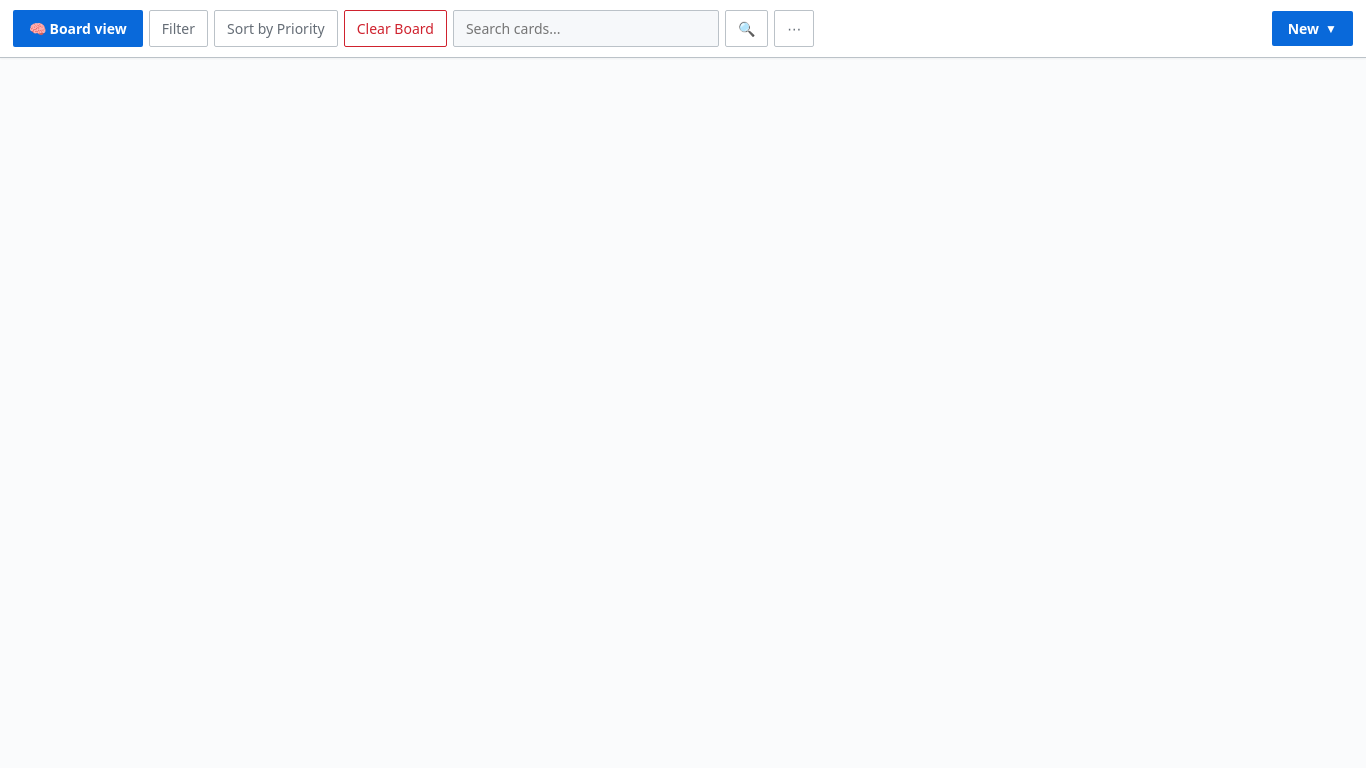
KanbanToolbar › New Card Modal Functionality › should close modal when clicking backdrop
// Open New Card modal
Click the button "New ▼".
click(1312, 28)  # box [1272, 11, 1353, 46]
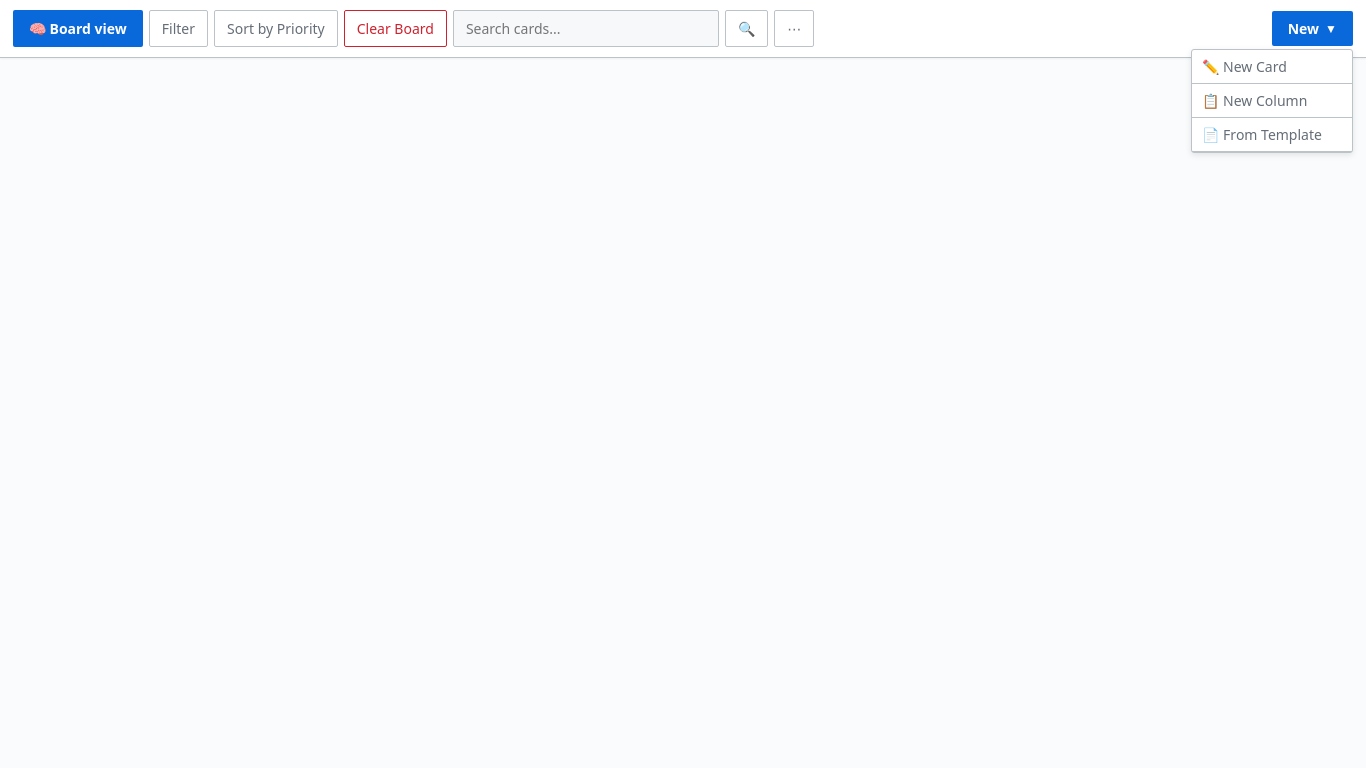
Click the text "✏️ New Card".
click(1272, 67)  # box [1192, 50, 1352, 84]
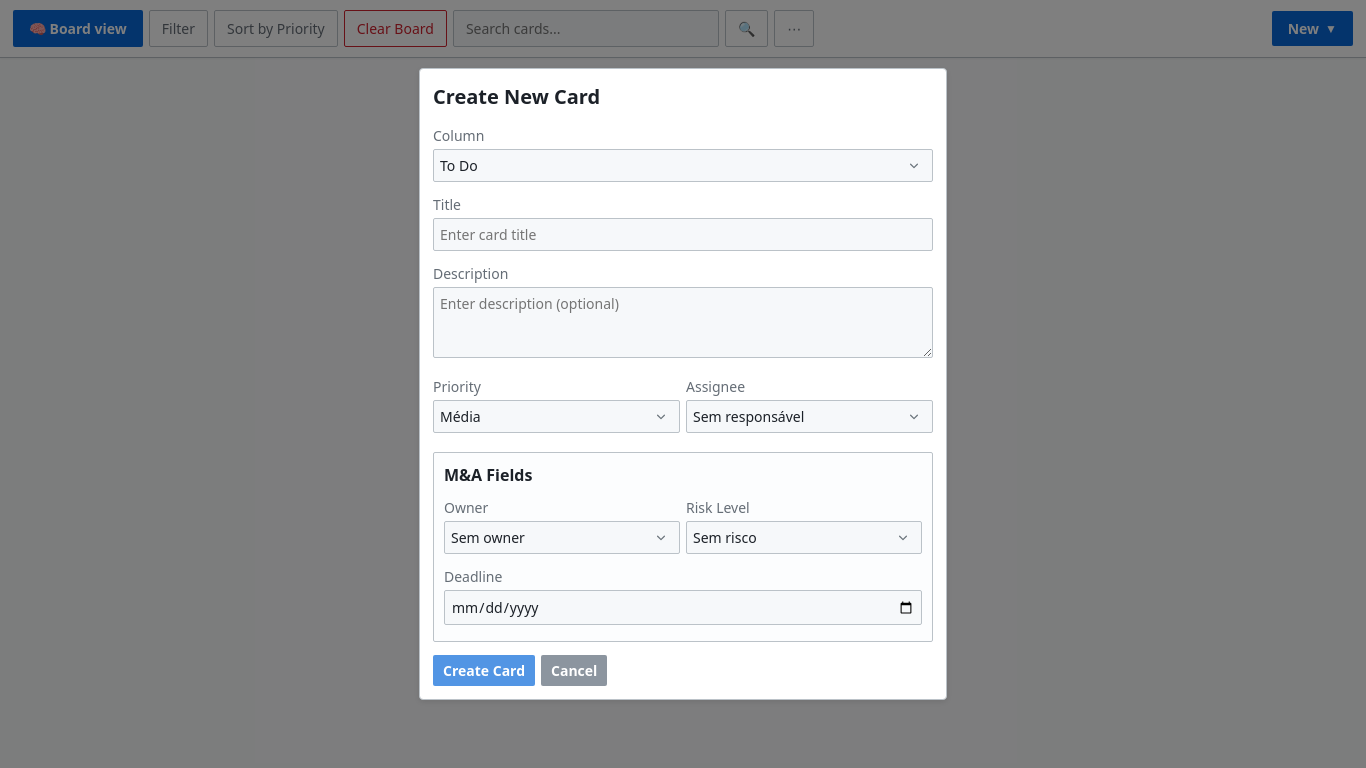
Check: the heading "Create New Card" is shown, box [433, 83, 600, 110]
// Click on modal backdrop
Click the dialog with test id "modal-backdrop".
click(82, 384)  # box [0, 0, 1365, 767]
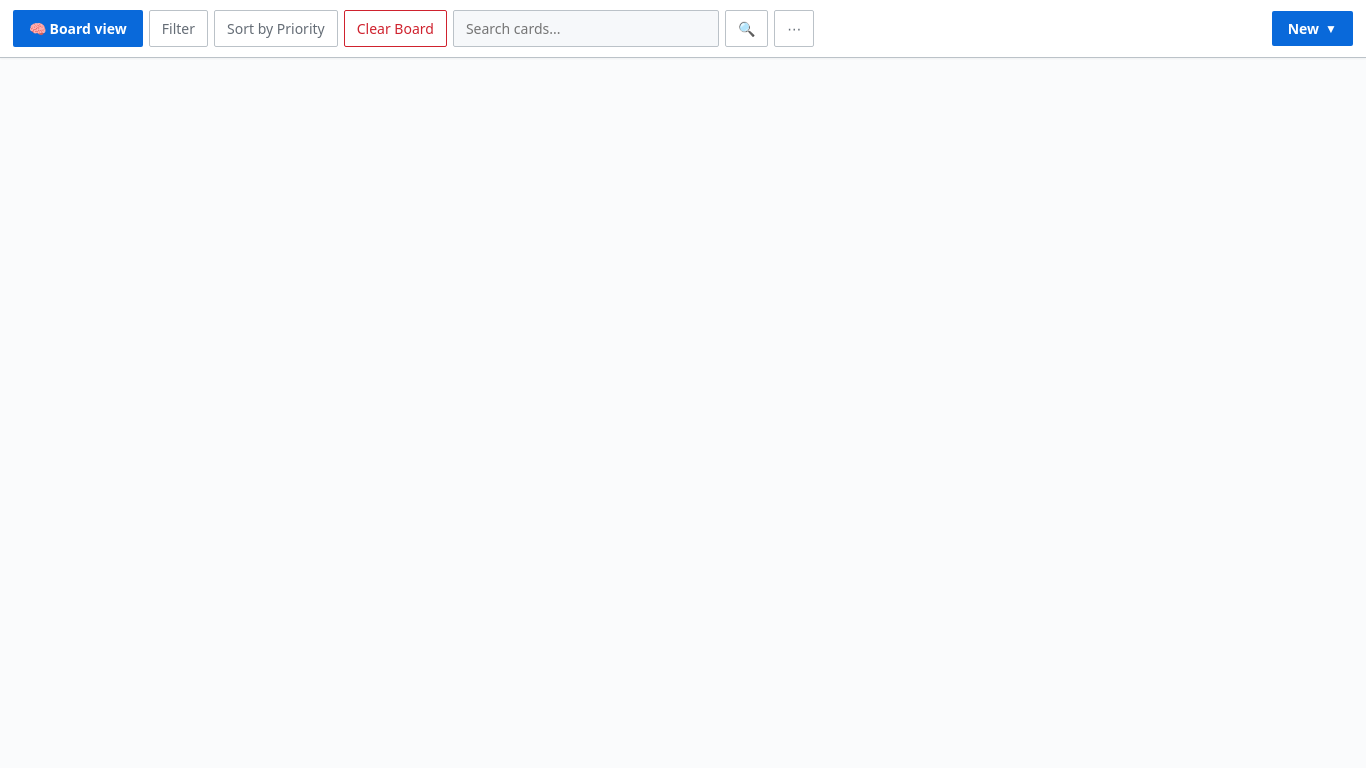
Check: the heading "Create New Card" is gone
